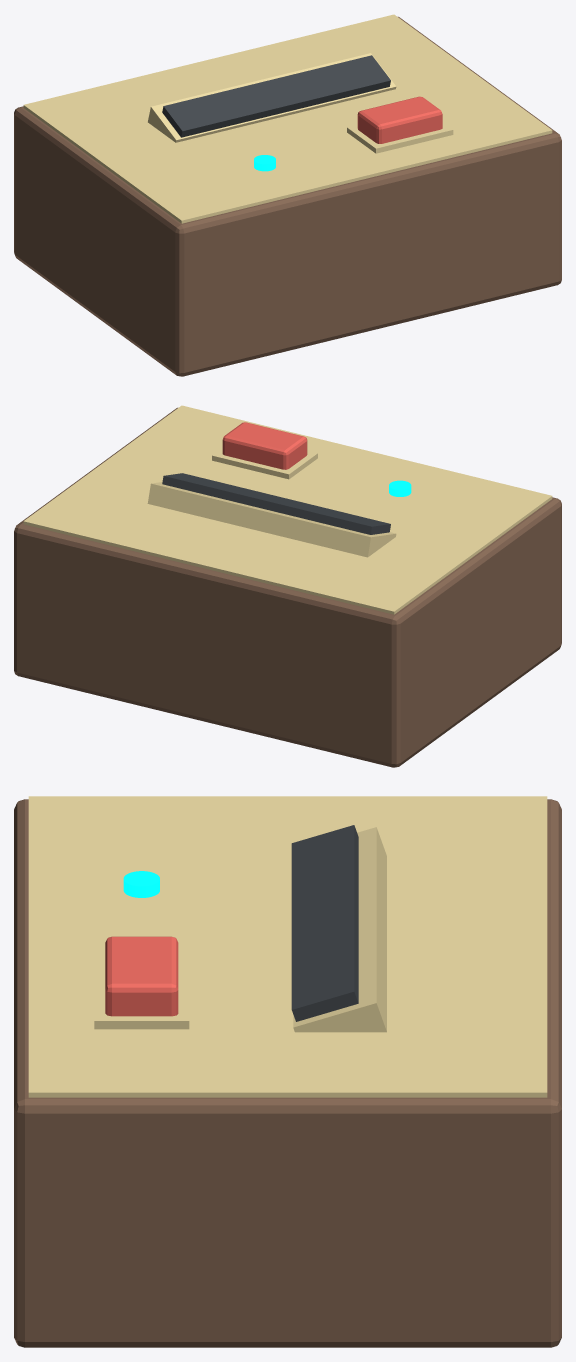
Rendered from CassetteDeckSlot.fbx.
The picture shows the model from 3 angles, top to bottom: view 1: azimuth 30°, elevation 25°; view 2: azimuth 150°, elevation 25°; view 3: azimuth 270°, elevation 25°; orthographic projection. The views are drawn at different scales.
Parts seen in each view (by area): view 1: Deck_Housing, Deck_Faceplate, Slot_Cavity, Eject_Button, Slot_Bezel, Eject_Bezel; view 2: Deck_Housing, Deck_Faceplate, Slot_Bezel, Slot_Cavity, Eject_Button, Eject_Bezel; view 3: Deck_Housing, Deck_Faceplate, Slot_Cavity, Slot_Bezel, Eject_Button, Eject_Bezel, Status_LED.
Part boxes in pixels (x1,y1,x2,y2): Deck_Housing: (14, 16, 561, 376); Deck_Faceplate: (23, 14, 552, 223); Slot_Cavity: (162, 55, 390, 137); Eject_Button: (357, 96, 442, 143); Slot_Bezel: (148, 53, 396, 142); Eject_Bezel: (347, 122, 453, 153); Deck_Housing: (14, 407, 561, 767); Deck_Faceplate: (23, 405, 552, 614); Slot_Bezel: (147, 482, 396, 557); Slot_Cavity: (162, 473, 390, 534); Eject_Button: (222, 422, 307, 469); Eject_Bezel: (212, 448, 317, 479); Deck_Housing: (14, 799, 561, 1347); Deck_Faceplate: (28, 796, 547, 1097); Slot_Cavity: (291, 825, 358, 1021); Slot_Bezel: (293, 827, 386, 1032); Eject_Button: (105, 936, 178, 1016); Eject_Bezel: (94, 959, 189, 1029); Status_LED: (123, 871, 159, 897).
Bounding box in the file's own units: 0.2 × 0.088 × 0.15.
